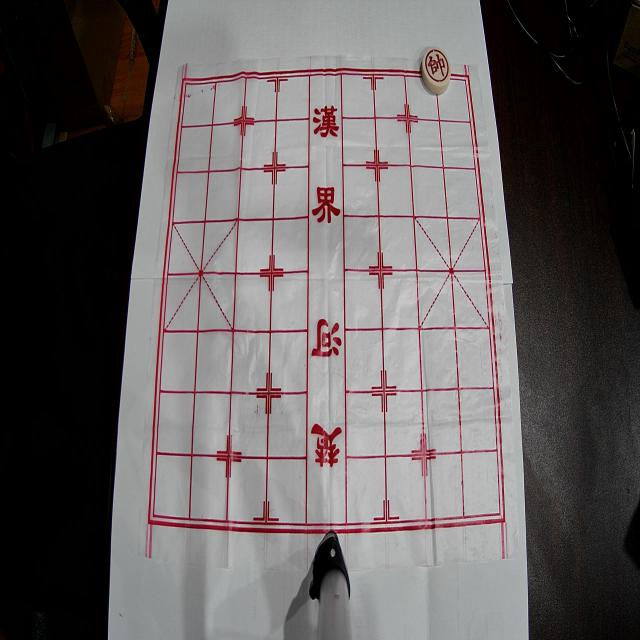red-general: (422, 46, 451, 94)
